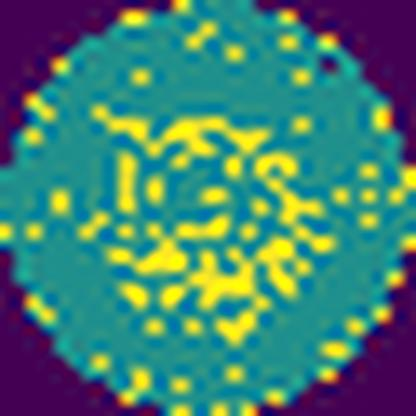Donut: (75, 102, 340, 354)
